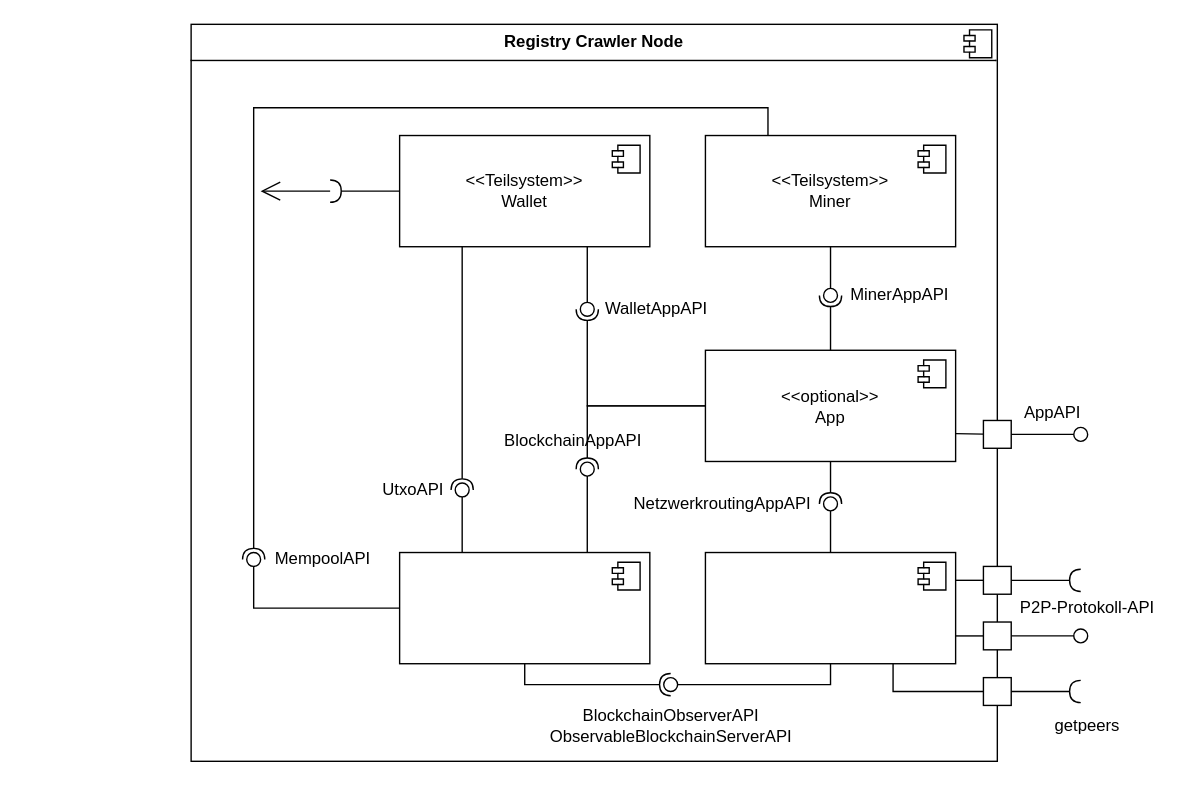
This 1187x787 diagram has some shape labels left out. The shapes that lost their labels are listed below. From the top down, each one's centre as x and y in pixels, then its label:
pixel 524 607: <<Teilsystem>> Blockchain
pixel 830 607: <<Teilsystem>> Netzwerkrouting
